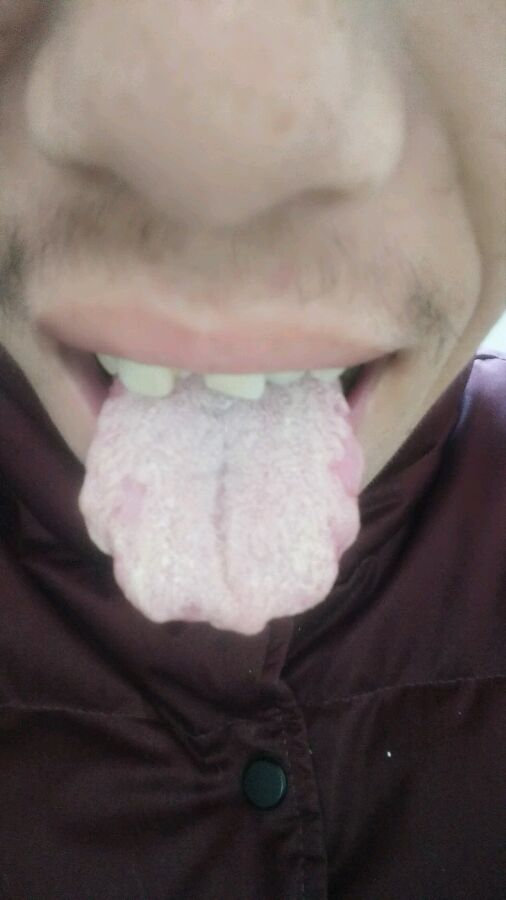baitaishe: (78, 368, 363, 636)
chihenshe: (262, 458, 363, 630), (80, 504, 156, 622)
liewenshe: (212, 440, 237, 594)
